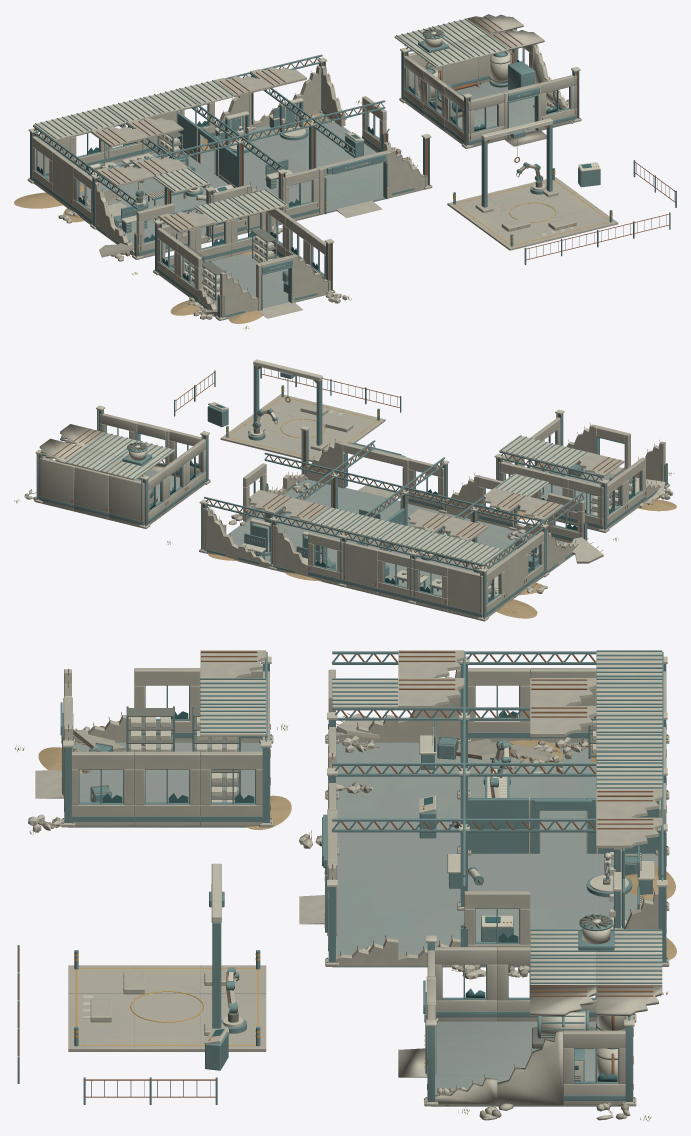
File: robot_lab_edit.glb
3 views of the same model, one above another, from view 1: azimuth 30°, elevation 25°; view 2: azimuth 150°, elevation 25°; view 3: azimuth 270°, elevation 25° (orthographic). The views are drawn at different scales.
Parts seen in each view (by area): view 1: Site3, Site2, Site4, Site1; view 2: Site3, Site2, Site4, Site1; view 3: Site3, Site2, Site4, Site1.
Part boxes in pixels (x1,y1,x2,y2): Site3: [14, 54, 432, 261]; Site2: [394, 14, 581, 148]; Site4: [131, 189, 351, 330]; Site1: [447, 118, 676, 264]; Site3: [167, 426, 603, 621]; Site2: [14, 405, 210, 528]; Site4: [494, 409, 676, 541]; Site1: [174, 359, 401, 461]; Site3: [299, 650, 676, 996]; Site2: [398, 914, 662, 1121]; Site4: [15, 650, 291, 834]; Site1: [17, 863, 266, 1104].
Size of what is drawn, in the model's own units: 58.34 by 8.29 by 40.17.
Materials: 14 (7 with a texture image).
